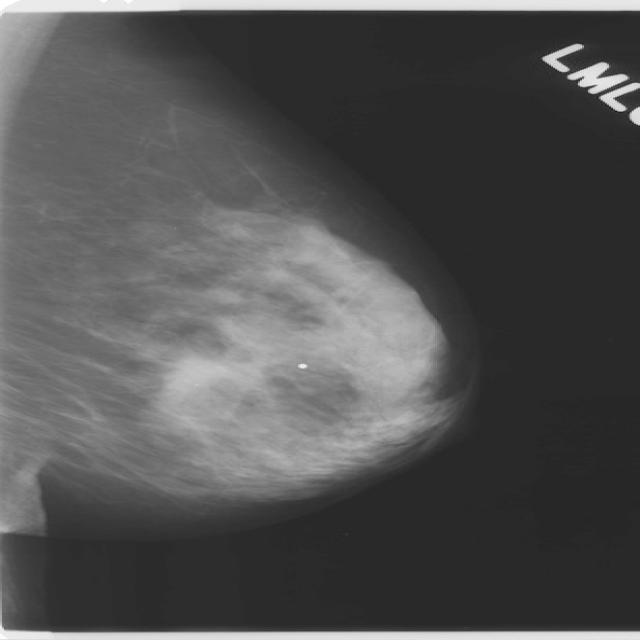tumour: (149, 352, 245, 408)
